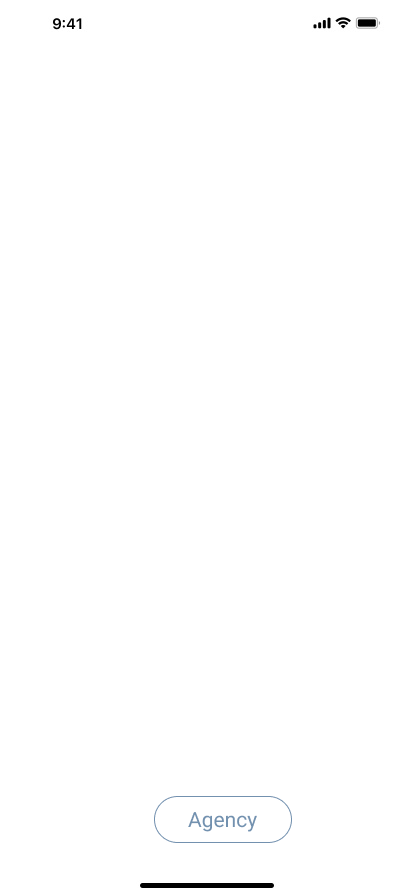Buttons: (154, 796, 300, 843)
Home Indicator: (0, 862, 414, 896)
Status Bar: (0, 0, 414, 44)
